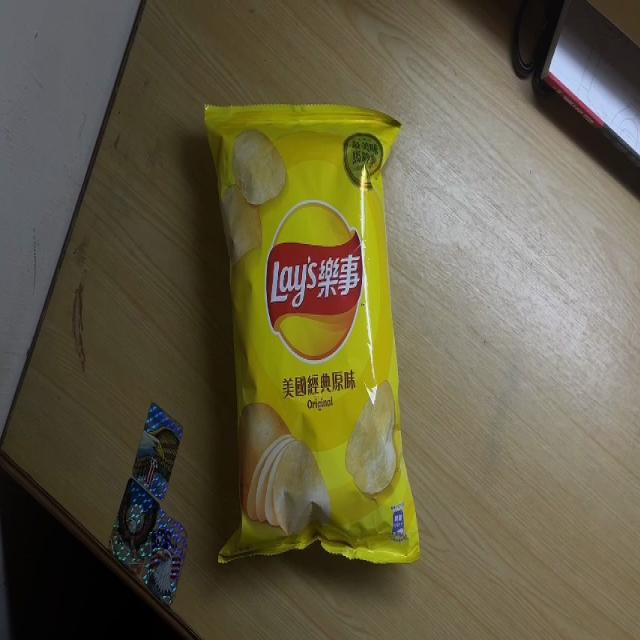Lay-s-original: (203, 99, 419, 565)
